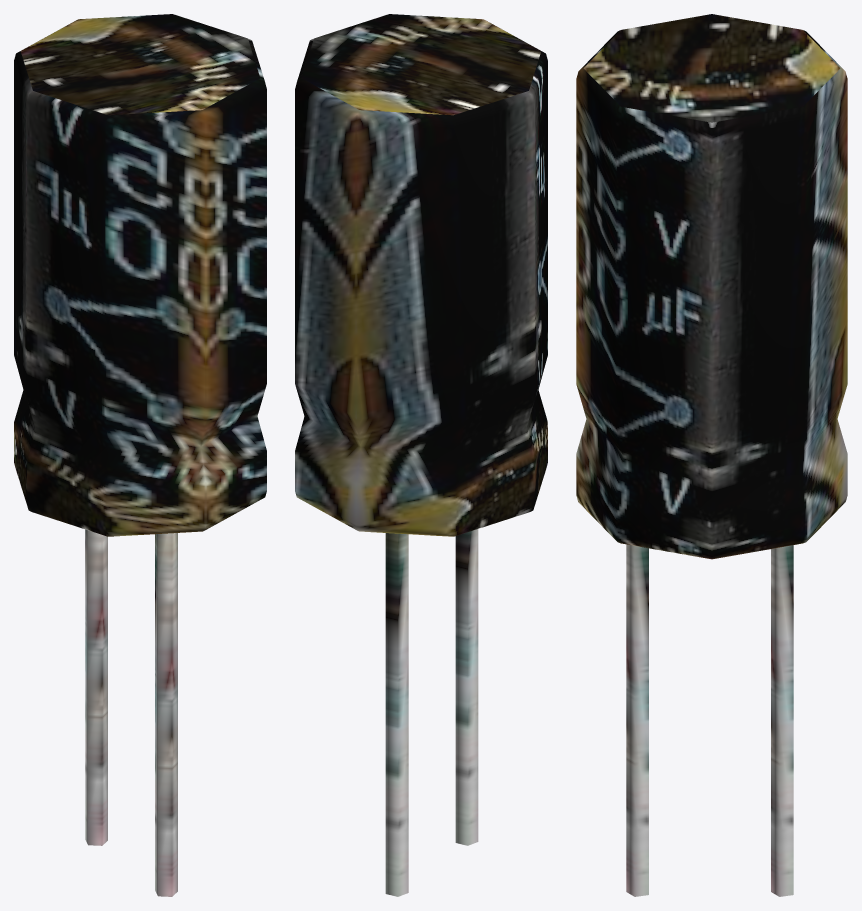
The model's file is capacitor_1.fbx.
The picture shows the model from 3 angles, left to right: view 1: azimuth 30°, elevation 25°; view 2: azimuth 150°, elevation 25°; view 3: azimuth 270°, elevation 25°; orthographic projection. The views are drawn at different scales.
Parts seen in each view (by area): view 1: Cylinder.001; view 2: Cylinder.001; view 3: Cylinder.001.
Part boxes in pixels (left/top/right/bottom): Cylinder.001: left=14, top=14, right=266, bottom=896; Cylinder.001: left=295, top=14, right=547, bottom=896; Cylinder.001: left=576, top=14, right=847, bottom=896.
Size of the model in its own units: 35.43 by 119 by 35.43.
